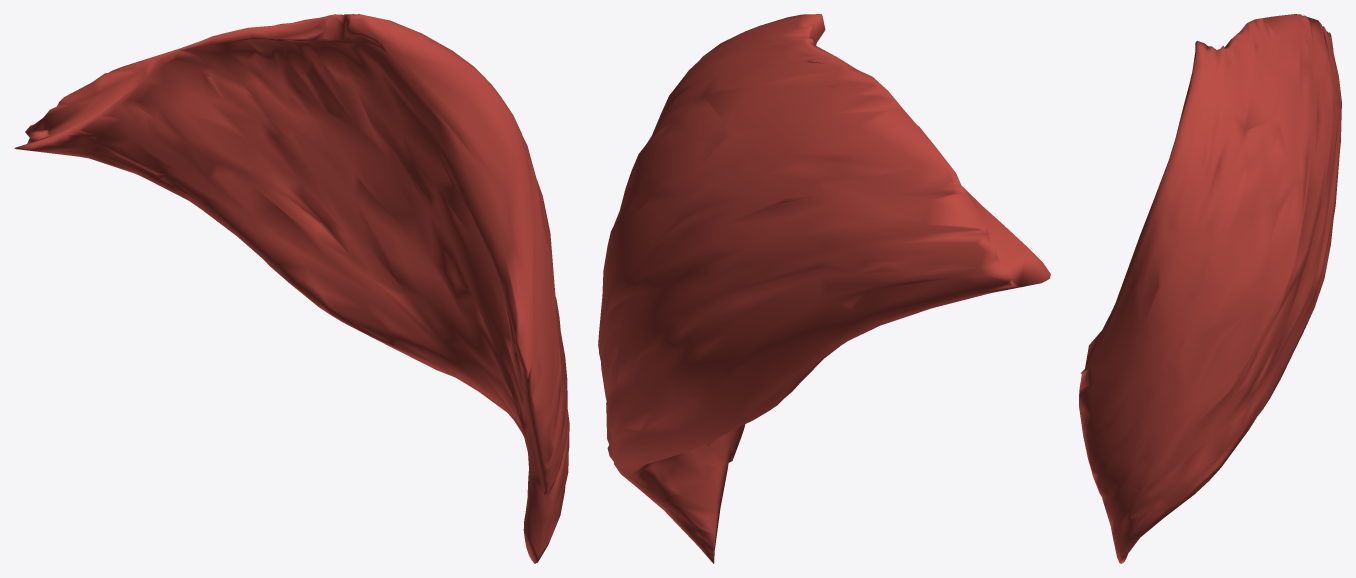
File: musculos-scapular-spinal-part-of-deltoid-muscle-l.glb
3 renders of one model, left to right at view 1: azimuth 30°, elevation 25°; view 2: azimuth 150°, elevation 25°; view 3: azimuth 270°, elevation 25°, orthographic. The views are drawn at different scales.
Visible parts, largest first — view 1: Scapular spinal part of deltoid muscle.l; view 2: Scapular spinal part of deltoid muscle.l; view 3: Scapular spinal part of deltoid muscle.l.
Part boxes in pixels (<box>): Scapular spinal part of deltoid muscle.l: <box>14,14,569,563</box>; Scapular spinal part of deltoid muscle.l: <box>598,14,1050,563</box>; Scapular spinal part of deltoid muscle.l: <box>1079,14,1341,563</box>.
Bounding box in the file's own units: 0.1368 × 0.1564 × 0.0801.
